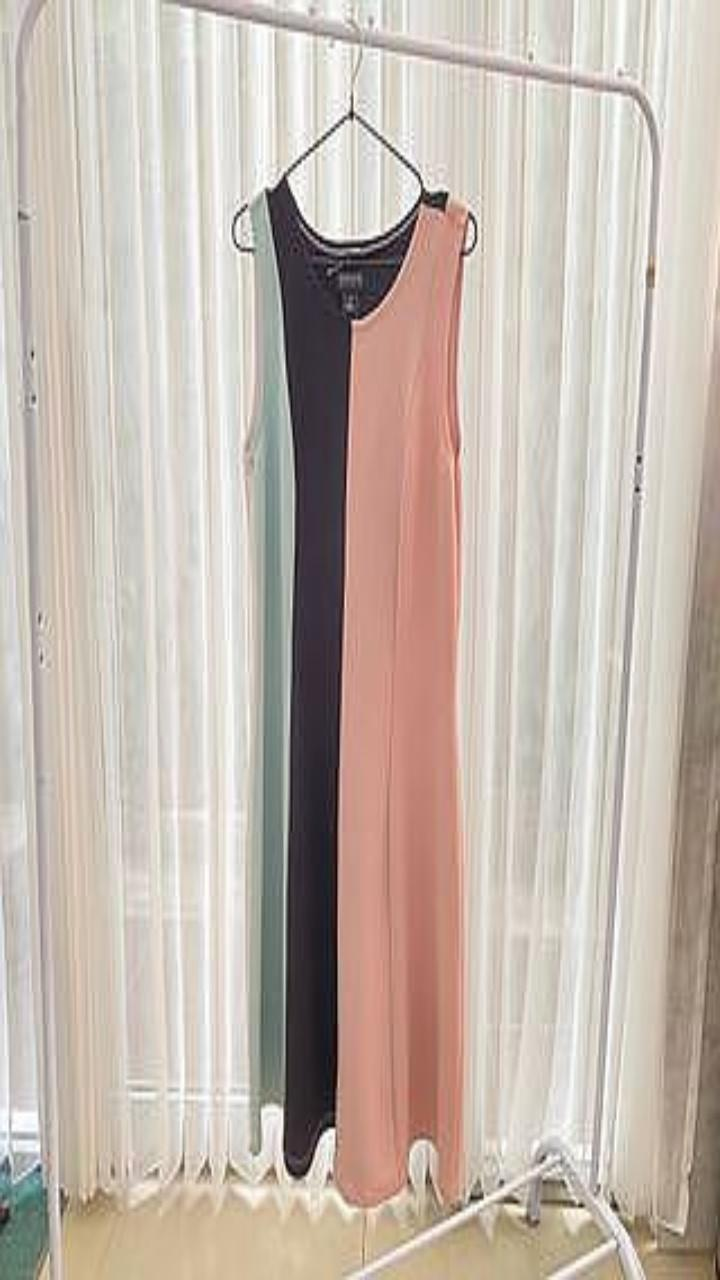Dresses: (245, 178, 466, 1203)
